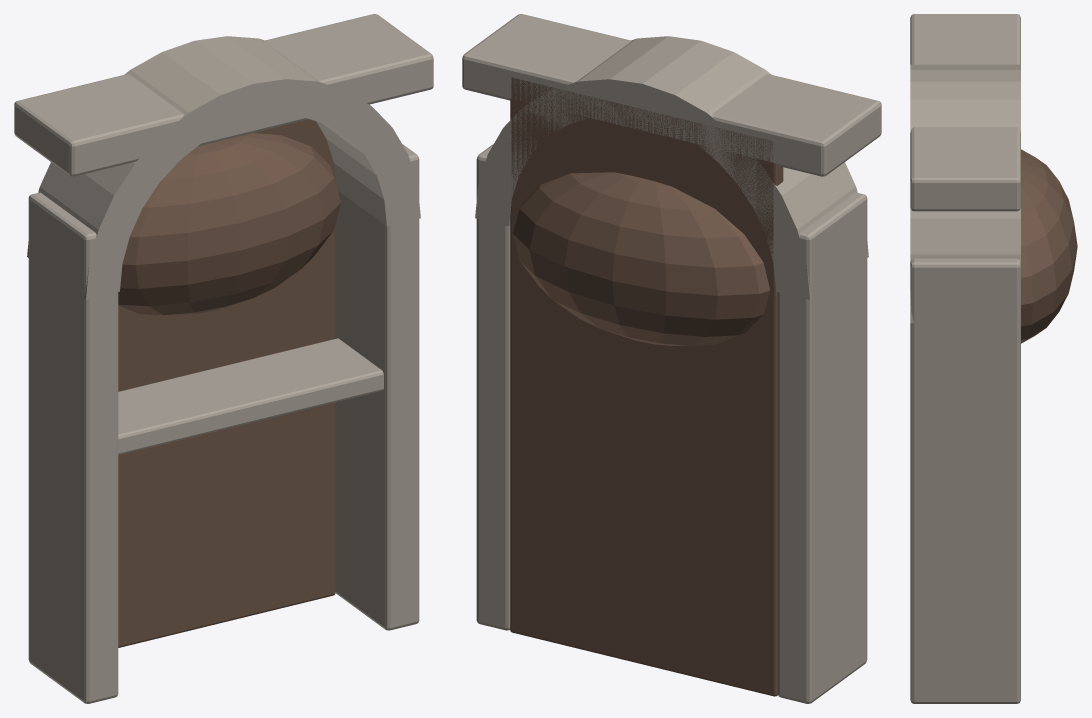
3 renders of one model, left to right at view 1: azimuth 30°, elevation 25°; view 2: azimuth 150°, elevation 25°; view 3: azimuth 270°, elevation 25°, orthographic. The views are drawn at different scales.
Visible parts, largest first — view 1: wallNiche; view 2: wallNiche; view 3: wallNiche.
Boxes of the visible parts, bbox=[...] form: wallNiche: bbox=[14, 14, 433, 703]; wallNiche: bbox=[462, 14, 881, 703]; wallNiche: bbox=[910, 14, 1077, 703].
Size of the model in its own units: 1.5 by 2.29 by 0.635.
